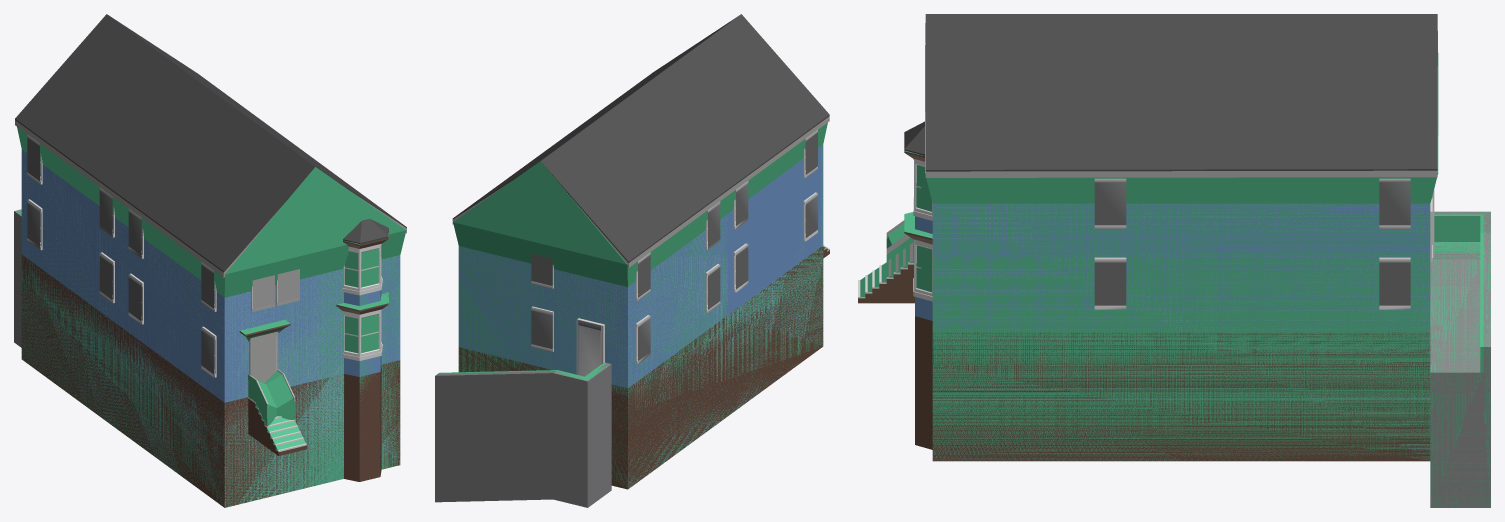
Rendered from eca_bld_house_05_d.dae.
3 renders of one model, left to right at view 1: azimuth 30°, elevation 25°; view 2: azimuth 150°, elevation 25°; view 3: azimuth 270°, elevation 25°, orthographic. The views are drawn at different scales.
Visible parts, largest first — view 1: ind_bld_a100, Colmesh-1, ind_bld_a60, ind_bld_a400; view 2: ind_bld_a100, Colmesh-1, ind_bld_a400, ind_bld_a60; view 3: ind_bld_a100, Colmesh-1, ind_bld_a400, ind_bld_a60.
Boxes of the visible parts, x1,y1,x2,y2 form: ind_bld_a100: (14,14,406,507); Colmesh-1: (14,127,406,507); ind_bld_a60: (21,151,400,505); ind_bld_a400: (21,150,399,451); ind_bld_a100: (435,14,829,507); Colmesh-1: (438,122,828,488); ind_bld_a400: (459,145,829,386); ind_bld_a60: (459,148,823,488); ind_bld_a100: (858,14,1490,507); Colmesh-1: (860,23,1490,507); ind_bld_a400: (858,159,1434,331); ind_bld_a60: (933,204,1430,459).
Size of the model in its own units: 7.29 by 17.8 by 13.7.
